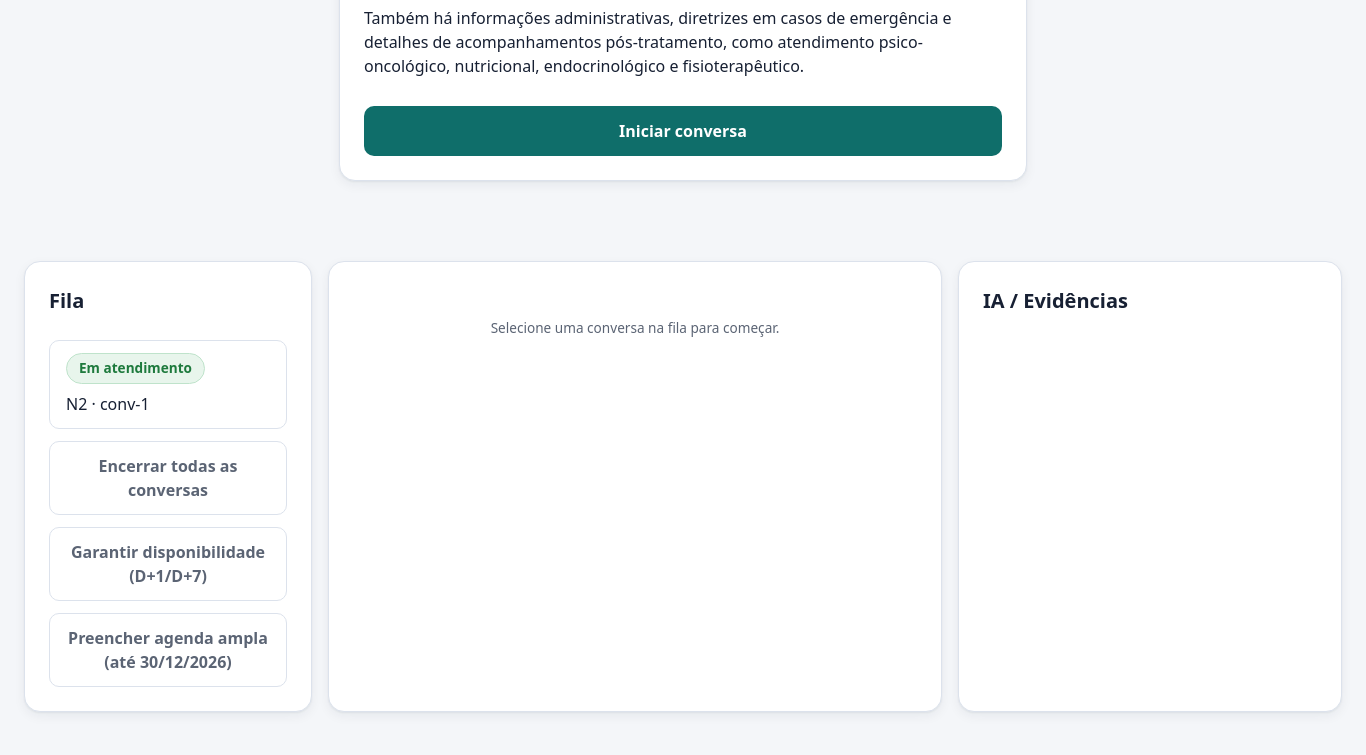
Test: V1 routes › shows no operator-facing booking summary when no booking has completed (007 outcome 8)
The width and height of the screenshot is (1366, 755).
(page scrolled)
Click the button "Em atendimento N2 · conv-1".
click(168, 384)  # box [49, 340, 287, 429]
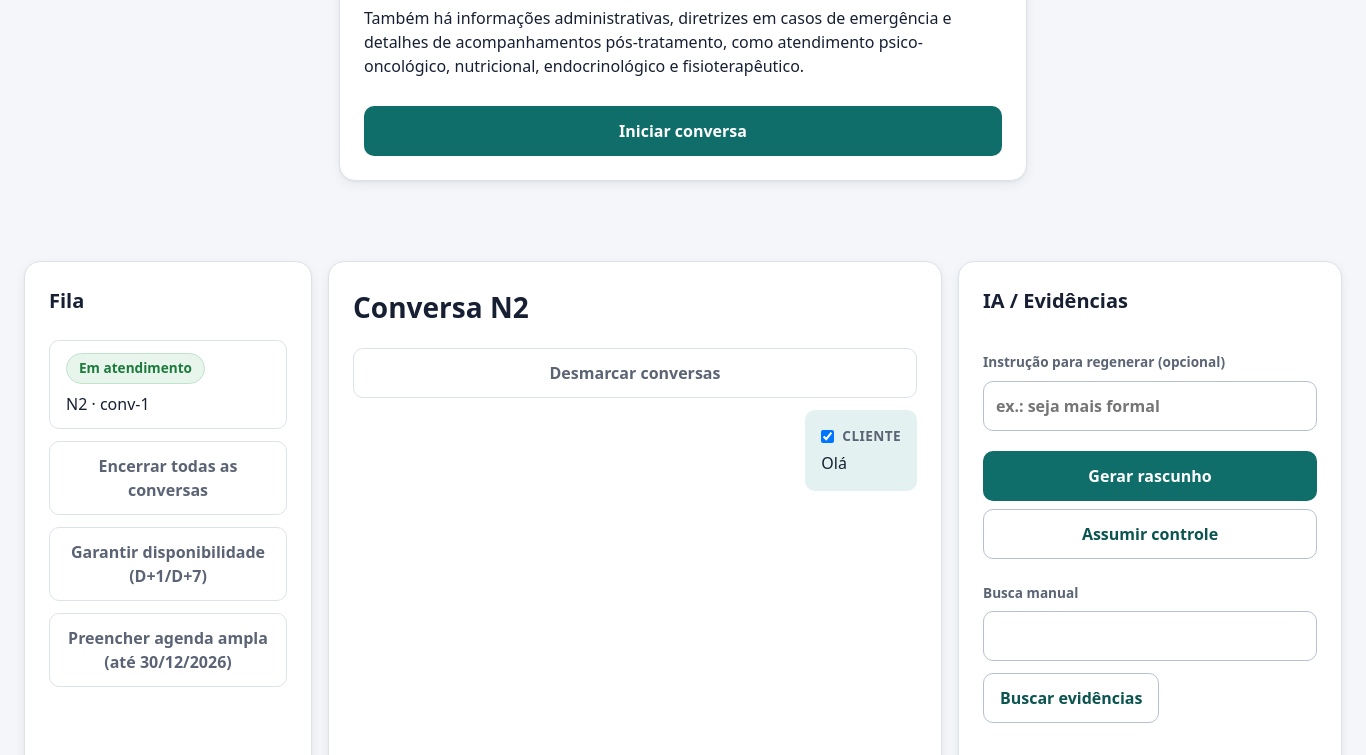
Check: the text "Olá" is shown, box [821, 452, 847, 474]
